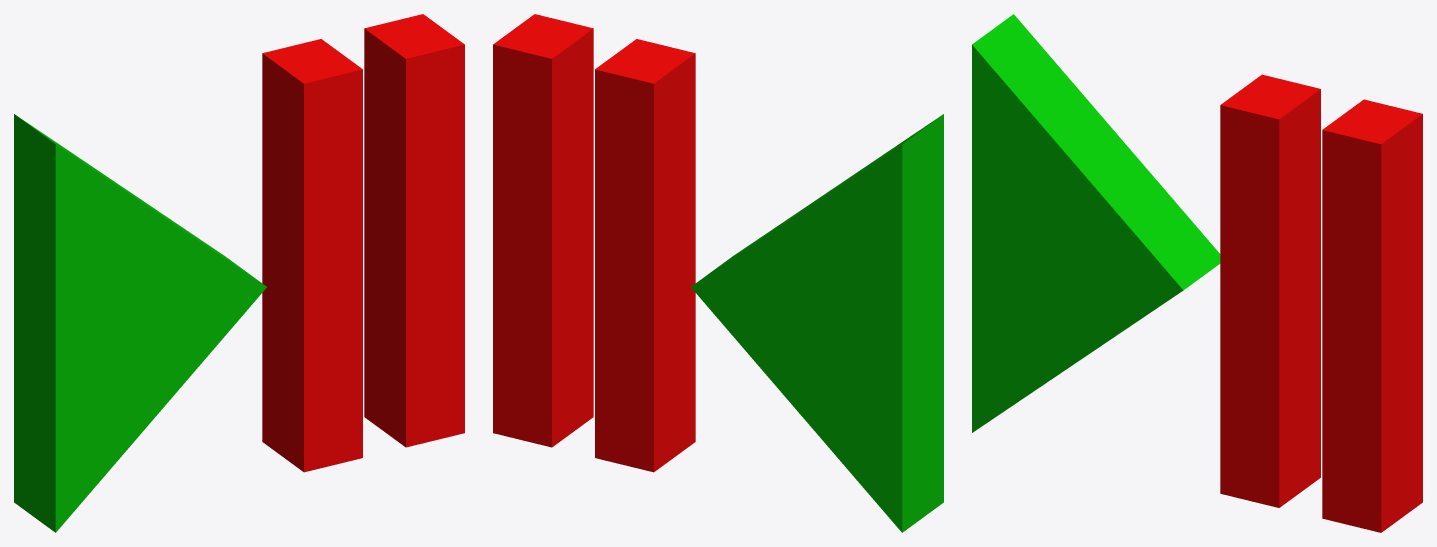
Rendered from questionTimePausePlayButt.fbx.
3 views of the same model, side by side, from view 1: azimuth 30°, elevation 25°; view 2: azimuth 150°, elevation 25°; view 3: azimuth 330°, elevation 25° (orthographic).
Visible parts, largest first — view 1: questionTimePausePlayButt; view 2: questionTimePausePlayButt; view 3: questionTimePausePlayButt.
Part boxes in pixels (x1,y1,x2,y2): questionTimePausePlayButt: [14, 14, 464, 532]; questionTimePausePlayButt: [493, 14, 943, 532]; questionTimePausePlayButt: [972, 14, 1422, 532].
Size of the model in its own units: 160 by 145 by 28.25.
